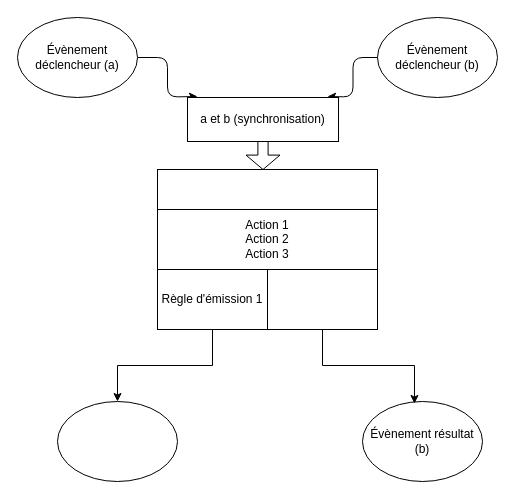
This 515x499 diagram has some shape labels left out. The shapes that lost their labels are listed below. From the top down, each one's box as (x1, y1, x2, y2) in pixels, then its label:
(156, 168, 378, 210): Nom de l'opération
(266, 268, 378, 330): Règle d'émission 2
(56, 400, 178, 482): Évènement résultat (a)
